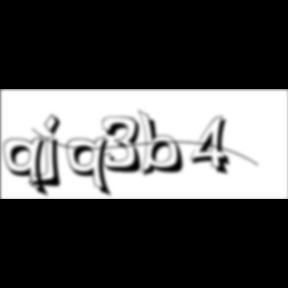3: (103, 116, 149, 176)
4: (190, 115, 236, 179)
b: (138, 109, 190, 179)
j: (42, 113, 68, 191)
q: (3, 135, 53, 200), (66, 135, 115, 200)
